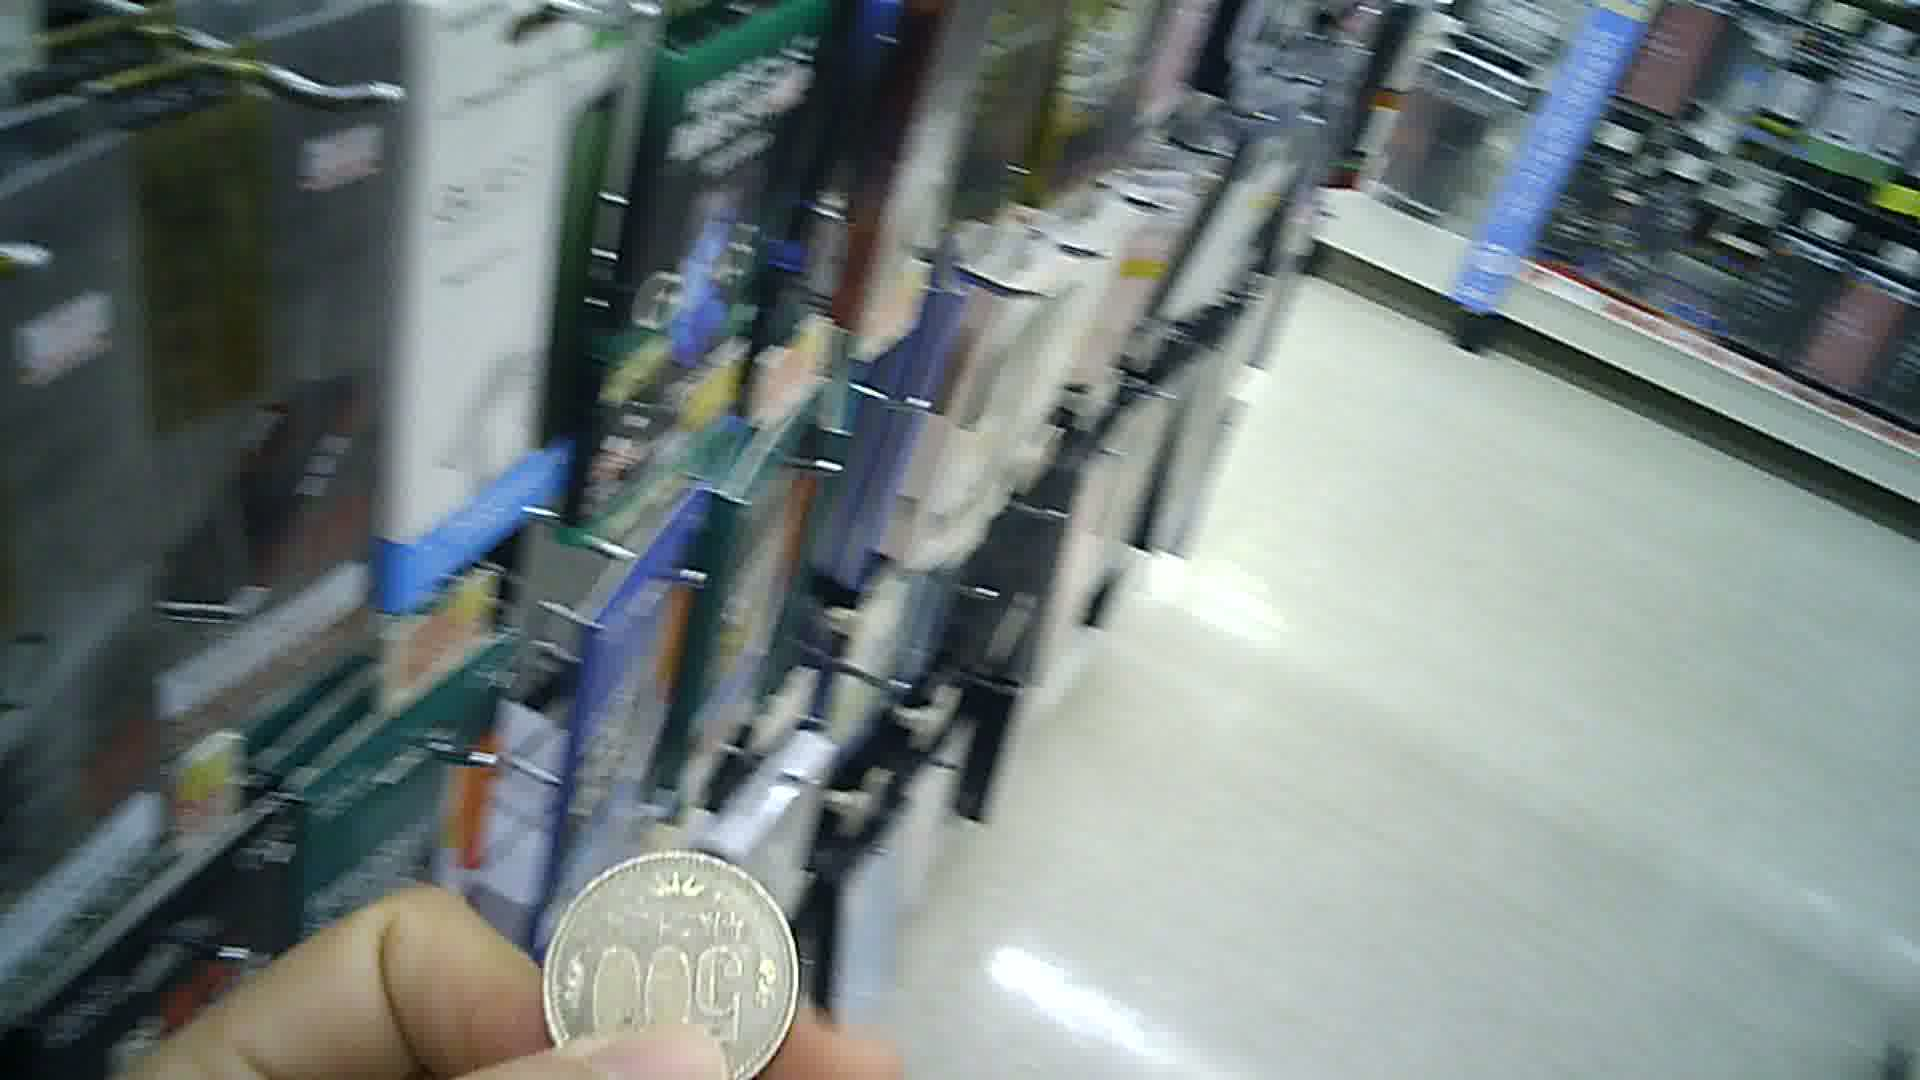500 Yen: (535, 843, 789, 1079)
